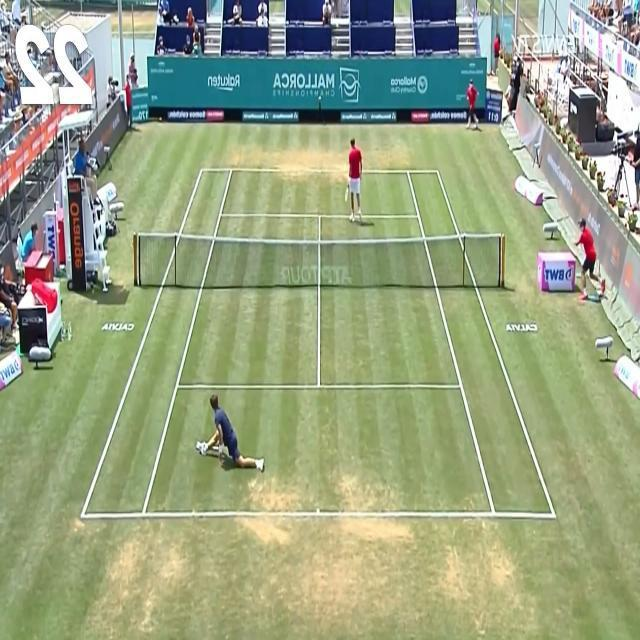court: (80, 168, 557, 519)
net: (132, 233, 506, 289)
player: (195, 394, 265, 474)
